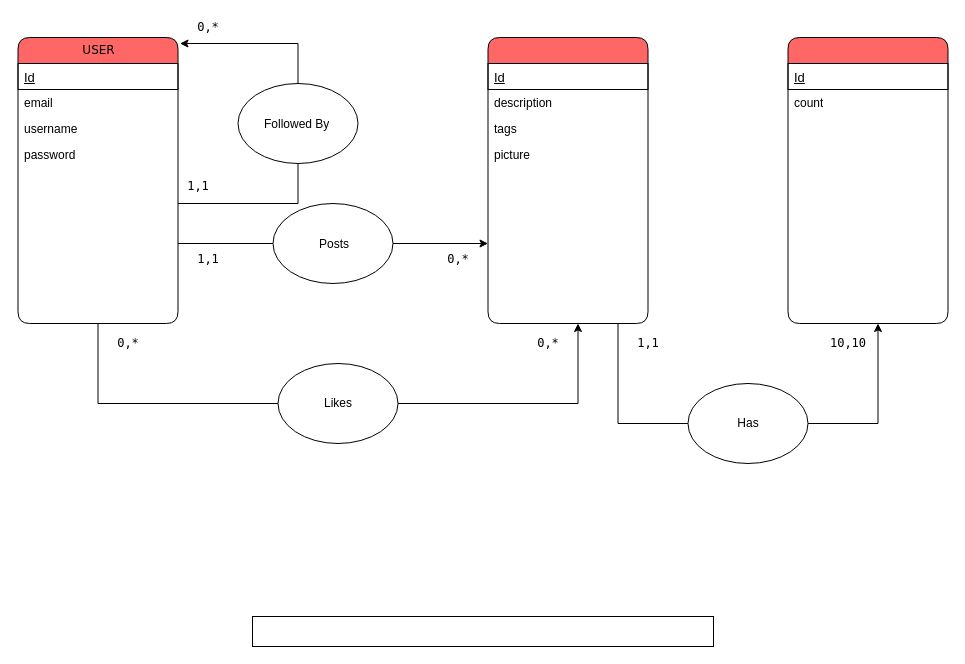
Some shapes in this 965 by 664 pixel diagram are drawn without their labels. Each missing label, with the box of its shape:
LIKECOUNTER: (787, 36, 948, 324)
POST: (487, 36, 648, 324)
Schema UML for Tiny Instagram's project: (252, 616, 714, 646)
